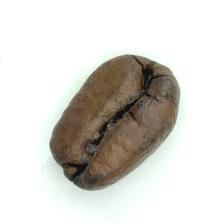NG: (83, 101, 130, 164)
